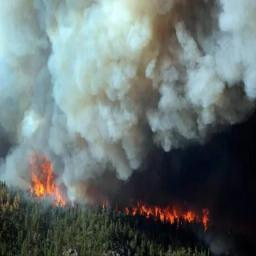Heavy smoke: (0, 0, 256, 207)
Large fire: (20, 149, 240, 245)
